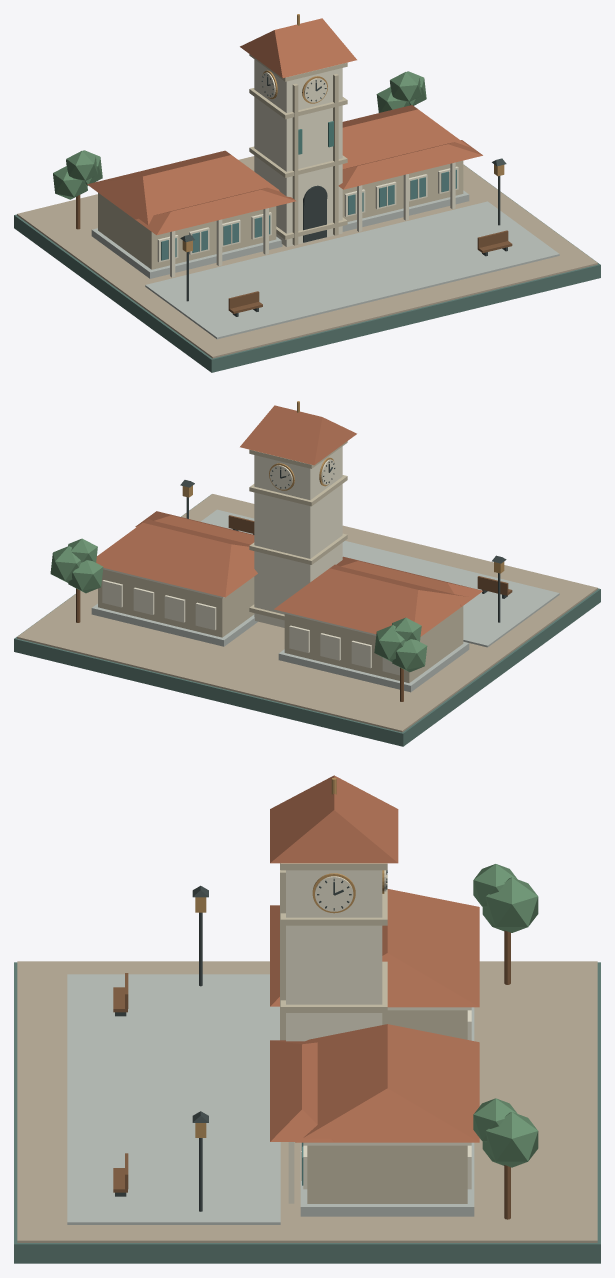
The picture shows the model from 3 angles, top to bottom: view 1: azimuth 30°, elevation 25°; view 2: azimuth 150°, elevation 25°; view 3: azimuth 270°, elevation 25°; orthographic projection. The views are drawn at different scales.
Parts seen in each view (by area): view 1: Stone | batched geometry, Terracotta | batched geometry, Gravel | batched geometry, Ivory | batched geometry, Sandstone | batched geometry, Plinth | batched geometry, Leaf | batched geometry, Glass | batched geometry, Charcoal | batched geometry, Timber | batched geometry, Bronze | batched geometry; view 2: Gravel | batched geometry, Terracotta | batched geometry, Ivory | batched geometry, Sandstone | batched geometry, Stone | batched geometry, Plinth | batched geometry, Leaf | batched geometry, Timber | batched geometry, Charcoal | batched geometry, Bronze | batched geometry; view 3: Gravel | batched geometry, Stone | batched geometry, Terracotta | batched geometry, Ivory | batched geometry, Sandstone | batched geometry, Plinth | batched geometry, Leaf | batched geometry, Timber | batched geometry, Charcoal | batched geometry, Bronze | batched geometry.
Part boxes in pixels (x1=…): Stone | batched geometry: x1=91, y1=190, x2=559, y2=339; Terracotta | batched geometry: x1=87, y1=18, x2=482, y2=235; Gravel | batched geometry: x1=17, y1=156, x2=597, y2=358; Ivory | batched geometry: x1=157, y1=59, x2=458, y2=277; Sandstone | batched geometry: x1=98, y1=54, x2=463, y2=269; Plinth | batched geometry: x1=14, y1=165, x2=600, y2=372; Leaf | batched geometry: x1=53, y1=71, x2=426, y2=199; Glass | batched geometry: x1=161, y1=169, x2=456, y2=260; Charcoal | batched geometry: x1=180, y1=74, x2=507, y2=316; Timber | batched geometry: x1=76, y1=195, x2=512, y2=313; Bronze | batched geometry: x1=182, y1=14, x2=504, y2=252; Gravel | batched geometry: x1=17, y1=494, x2=597, y2=732; Terracotta | batched geometry: x1=96, y1=405, x2=482, y2=636; Ivory | batched geometry: x1=102, y1=446, x2=399, y2=675; Sandstone | batched geometry: x1=98, y1=441, x2=463, y2=682; Stone | batched geometry: x1=91, y1=509, x2=559, y2=692; Plinth | batched geometry: x1=14, y1=494, x2=600, y2=746; Leaf | batched geometry: x1=50, y1=538, x2=427, y2=672; Timber | batched geometry: x1=76, y1=515, x2=512, y2=701; Charcoal | batched geometry: x1=180, y1=461, x2=507, y2=622; Bronze | batched geometry: x1=182, y1=401, x2=504, y2=573; Gravel | batched geometry: x1=17, y1=961, x2=597, y2=1242; Stone | batched geometry: x1=67, y1=974, x2=474, y2=1224; Terracotta | batched geometry: x1=270, y1=775, x2=479, y2=1142; Ivory | batched geometry: x1=286, y1=870, x2=471, y2=1203; Sandstone | batched geometry: x1=280, y1=863, x2=467, y2=1203; Plinth | batched geometry: x1=14, y1=962, x2=600, y2=1263; Leaf | batched geometry: x1=473, y1=864, x2=538, y2=1167; Timber | batched geometry: x1=113, y1=930, x2=510, y2=1219; Charcoal | batched geometry: x1=115, y1=870, x2=387, y2=1211; Bronze | batched geometry: x1=195, y1=777, x2=384, y2=1137.
Size of the model in its own units: 11 by 6.26 by 9.68.
